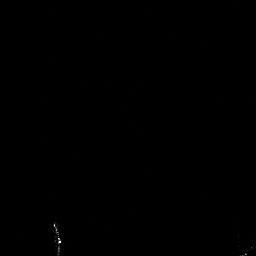ship: (51, 221, 61, 256)
